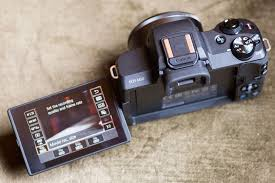camera: (122, 16, 266, 121)
